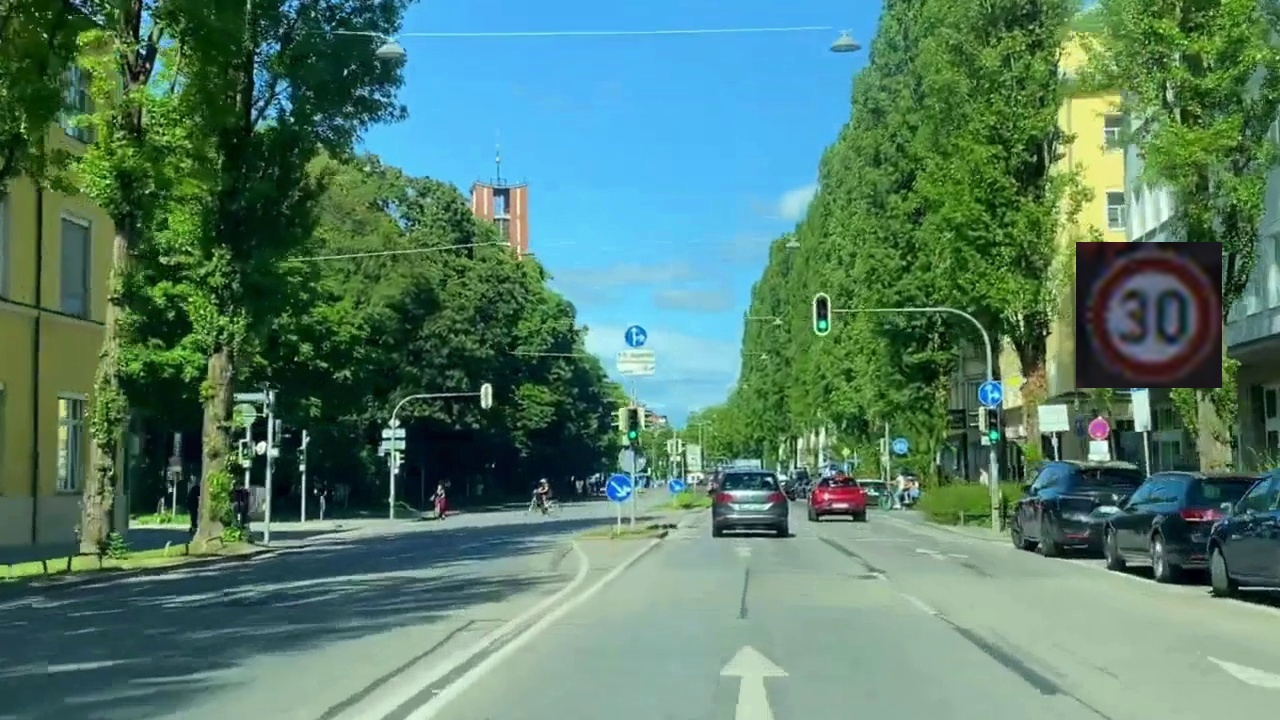Speed 30: (1076, 242, 1222, 388)
